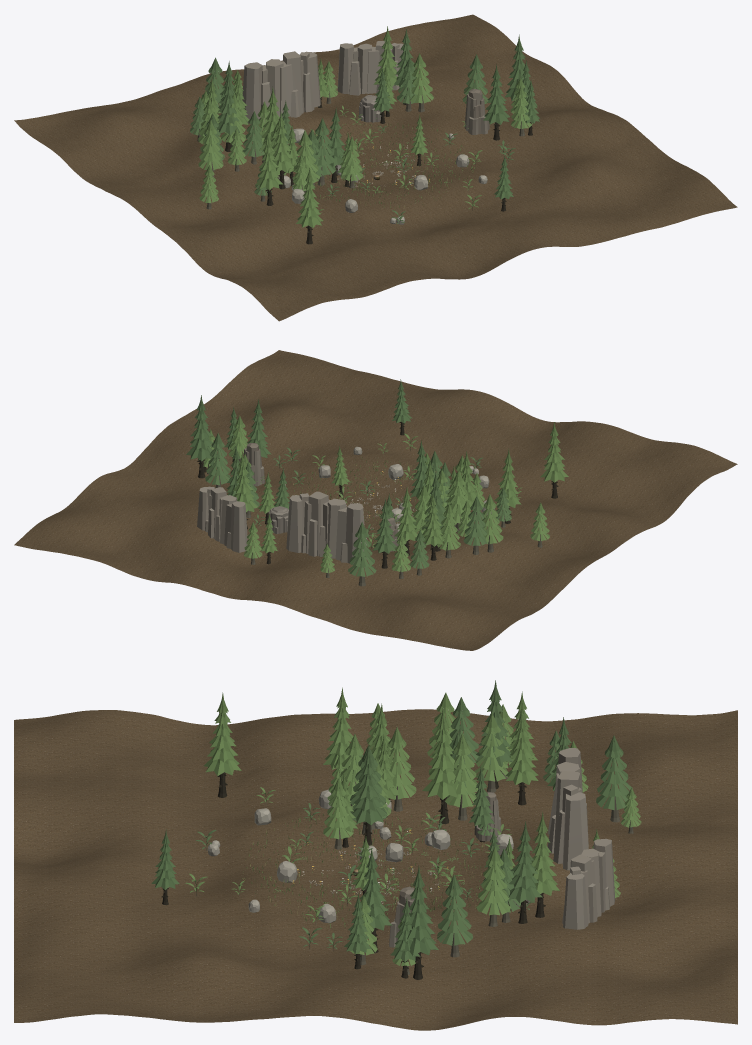
File: map.glb
3 views of the same model, one above another, from view 1: azimuth 30°, elevation 25°; view 2: azimuth 150°, elevation 25°; view 3: azimuth 270°, elevation 25° (orthographic). The views are drawn at different scales.
Parts seen in each view (by area): view 1: Terreno, Rocas_-1_0, Arboles_-2_0, Rocas_0_0, Arboles_-1_-1, Arboles_-1_0, Arboles_0_0, Arboles_1_-1, Arboles_0_1, Arboles_1_0, Arboles_-1_1, Arboles_-2_-1 (+1 smaller); view 2: Terreno, Rocas_-1_0, Arboles_-2_0, Rocas_0_0, Arboles_-1_1, Arboles_1_0, Arboles_0_1, Arboles_-1_0, Arboles_-1_-1, Arboles_1_-1, Arboles_0_0, Arboles_-2_1 (+3 smaller); view 3: Terreno, Arboles_-1_0, Rocas_-1_0, Arboles_-2_0, Arboles_-1_-1, Rocas_0_0, Arboles_1_0, Arboles_-1_1, Arboles_0_1, Arboles_1_-1, Arboles_0_0, Arboles_-2_-2 (+6 smaller).
Boxes of the visible parts, <box> form: Terreno: <box>14,14,737,321</box>; Rocas_-1_0: <box>242,51,363,188</box>; Arboles_-2_0: <box>198,71,293,209</box>; Rocas_0_0: <box>337,41,489,168</box>; Arboles_-1_-1: <box>292,107,363,192</box>; Arboles_-1_0: <box>242,86,299,186</box>; Arboles_0_0: <box>373,53,433,123</box>; Arboles_1_-1: <box>483,64,539,140</box>; Arboles_0_1: <box>318,26,417,107</box>; Arboles_1_0: <box>462,34,536,117</box>; Arboles_-1_1: <box>202,57,249,125</box>; Arboles_-2_-1: <box>254,130,282,205</box>; Terreno: <box>14,350,737,650</box>; Rocas_-1_0: <box>286,491,463,564</box>; Arboles_-2_0: <box>421,451,549,560</box>; Rocas_0_0: <box>197,443,363,552</box>; Arboles_-1_1: <box>320,487,417,586</box>; Arboles_1_0: <box>186,395,230,487</box>; Arboles_0_1: <box>227,445,277,564</box>; Arboles_-1_0: <box>386,460,472,544</box>; Arboles_-1_-1: <box>410,440,484,514</box>; Arboles_1_-1: <box>224,399,271,461</box>; Arboles_0_0: <box>239,454,289,524</box>; Arboles_-2_1: <box>391,530,429,578</box>; Terreno: <box>14,709,737,1030</box>; Arboles_-1_0: <box>377,707,494,842</box>; Rocas_-1_0: <box>374,748,588,877</box>; Arboles_-2_0: <box>366,680,537,792</box>; Arboles_-1_-1: <box>323,734,391,849</box>; Rocas_0_0: <box>380,838,615,947</box>; Arboles_1_0: <box>390,865,472,979</box>; Arboles_-1_1: <box>505,709,641,833</box>; Arboles_0_1: <box>508,812,620,923</box>; Arboles_1_-1: <box>344,848,392,969</box>; Arboles_0_0: <box>476,828,520,926</box>; Arboles_-2_-2: <box>204,692,241,797</box>.
Bounding box in the file's own units: 90 × 18.34 × 90.
11 materials, 3 textured.
